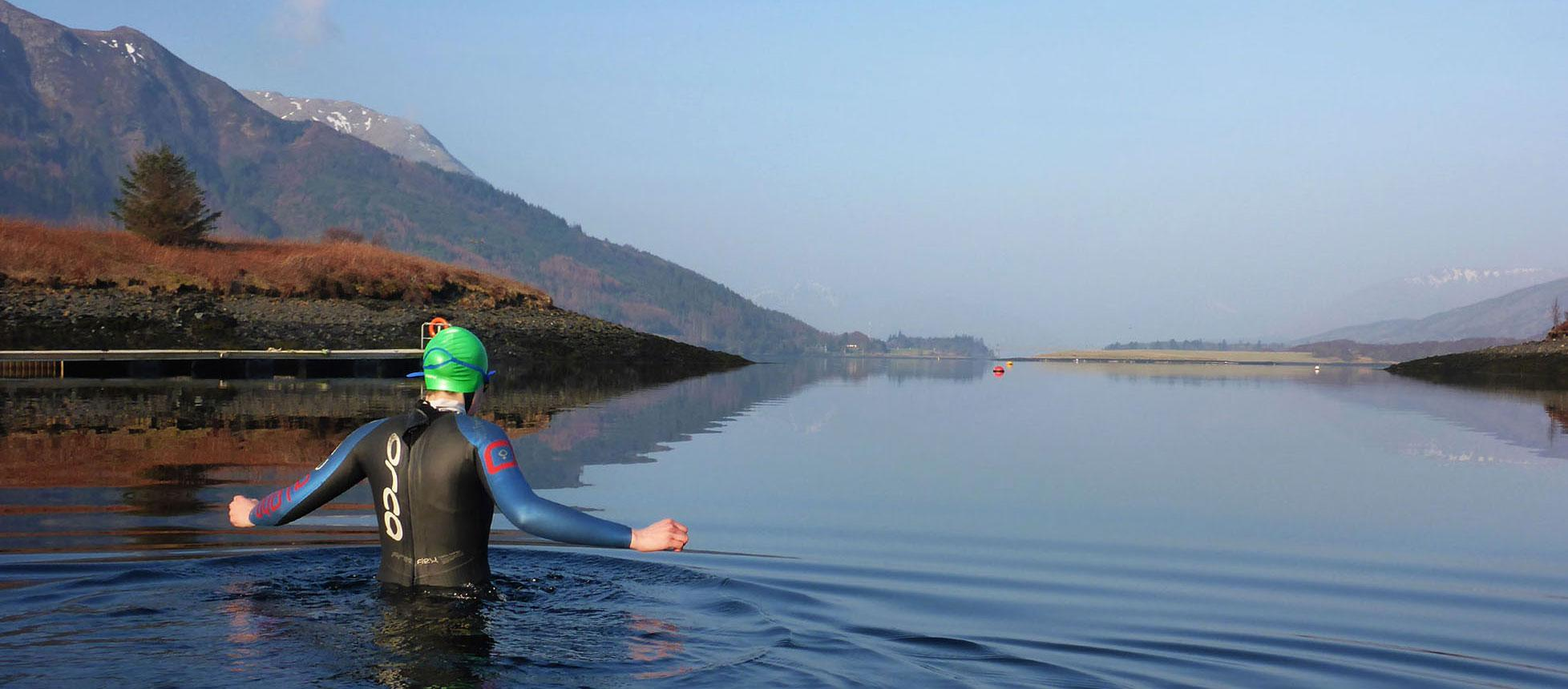human: (222, 319, 696, 619)
